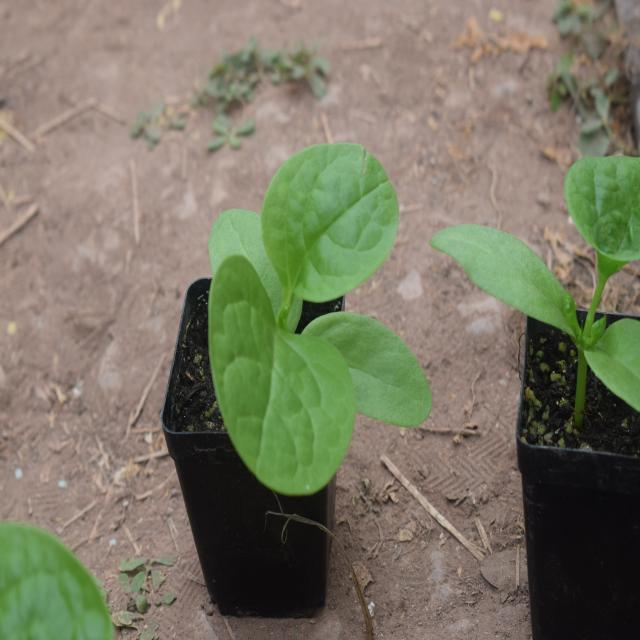Ceylon spinach: (193, 121, 435, 491)
